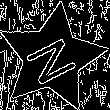N_NE: (21, 29, 84, 87)
